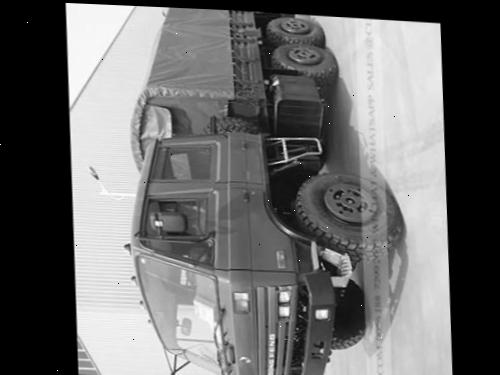truck: (107, 5, 416, 375)
